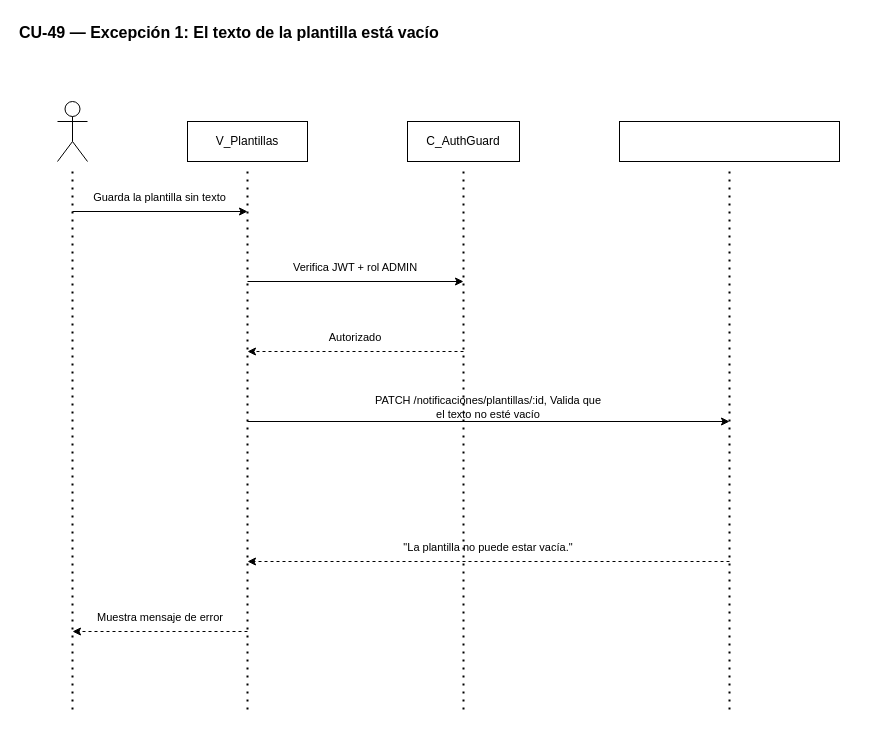
The diagram is 896 pixels wide and 730 high, and some of its shapes have lost their labels. The box of each missing label's shape, as (x1, y1, x2, y2) in pixels:
Administrador: (56, 100, 88, 162)
C_NotificacionesController: (618, 120, 840, 162)
